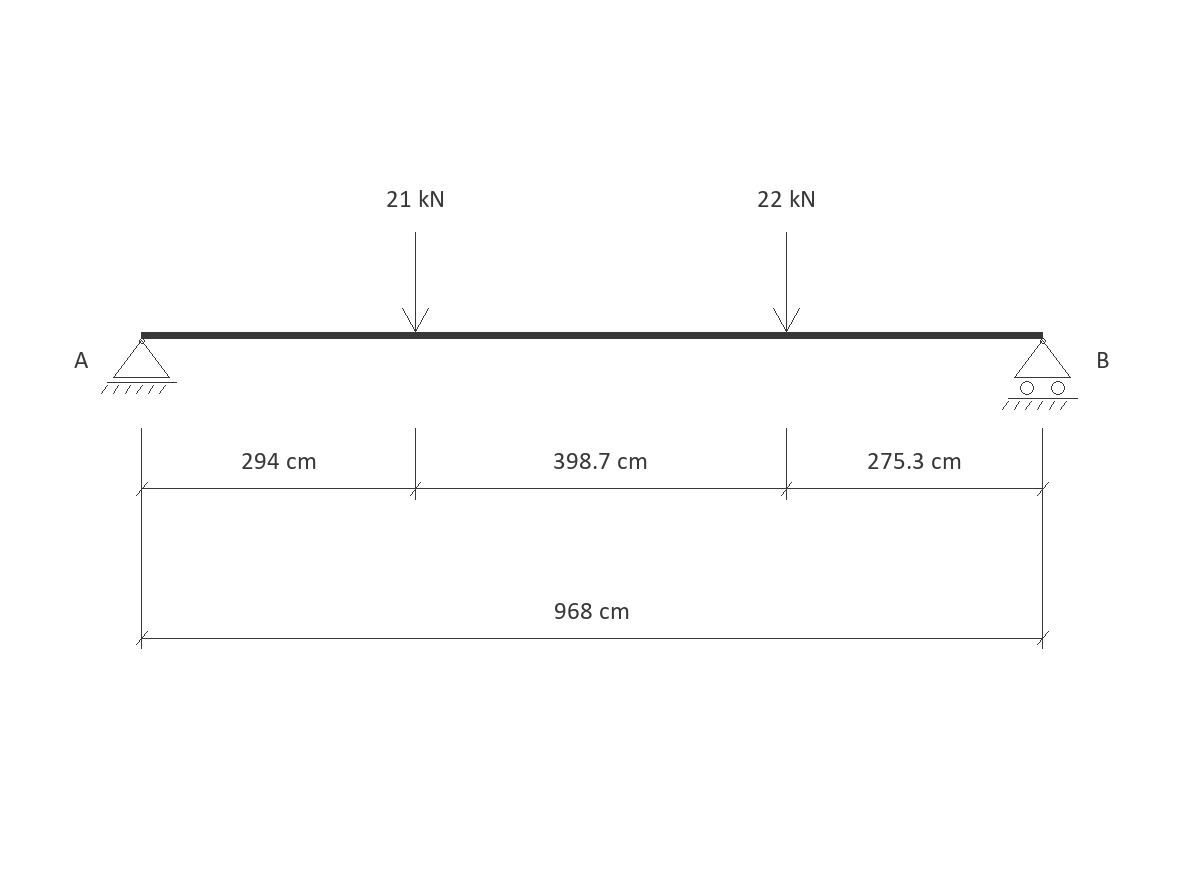pin_support: (101, 338, 177, 394)
point_load: (402, 232, 429, 332), (773, 232, 800, 332)
roller_support: (1002, 338, 1078, 410)
